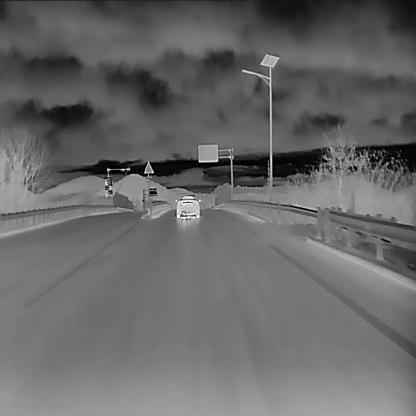car: (174, 193, 201, 218)
sign_danger: (140, 164, 156, 179)
